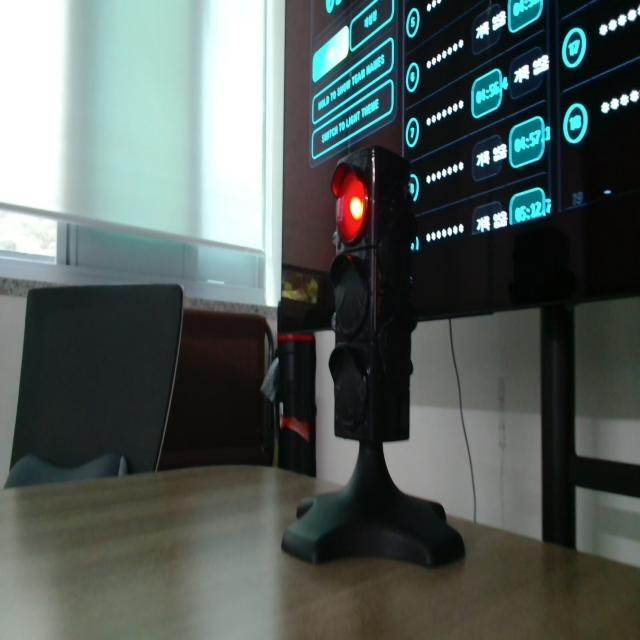red_light: (337, 172, 365, 244)
